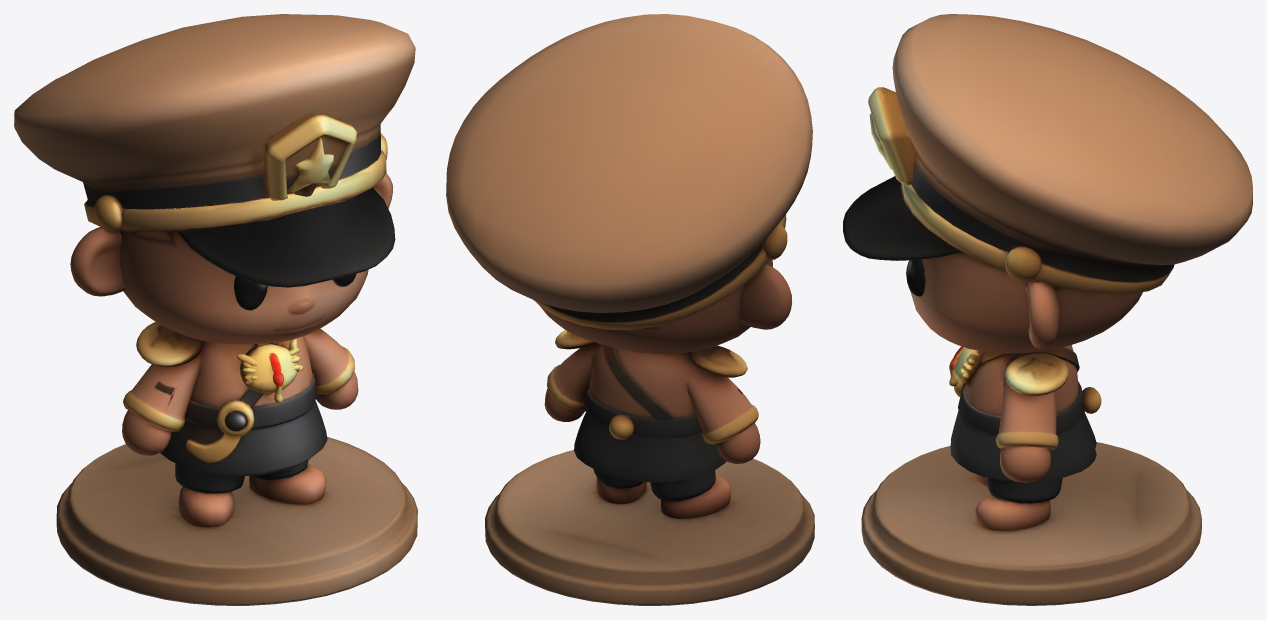
Rendered from laos-king.glb.
The picture shows the model from 3 angles, left to right: view 1: azimuth 30°, elevation 25°; view 2: azimuth 150°, elevation 25°; view 3: azimuth 270°, elevation 25°; orthographic projection. The views are drawn at different scales.
Parts seen in each view (by area): view 1: tripo_41918b72_5302_4342_a437_f079ff73a3a9; view 2: tripo_41918b72_5302_4342_a437_f079ff73a3a9; view 3: tripo_41918b72_5302_4342_a437_f079ff73a3a9.
Boxes of the visible parts, <box> form: tripo_41918b72_5302_4342_a437_f079ff73a3a9: <box>14,14,417,605</box>; tripo_41918b72_5302_4342_a437_f079ff73a3a9: <box>446,14,814,605</box>; tripo_41918b72_5302_4342_a437_f079ff73a3a9: <box>843,14,1252,605</box>.
Bounding box in the file's own units: 0.7065 × 0.9995 × 0.7583.
Materials: 1 (1 with a texture image).
